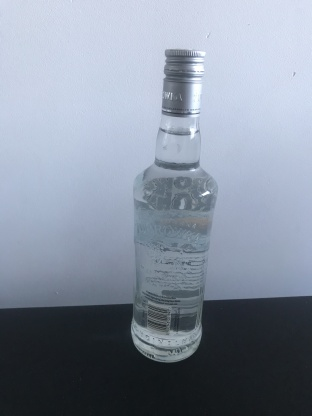nakretka: (159, 44, 207, 121)
